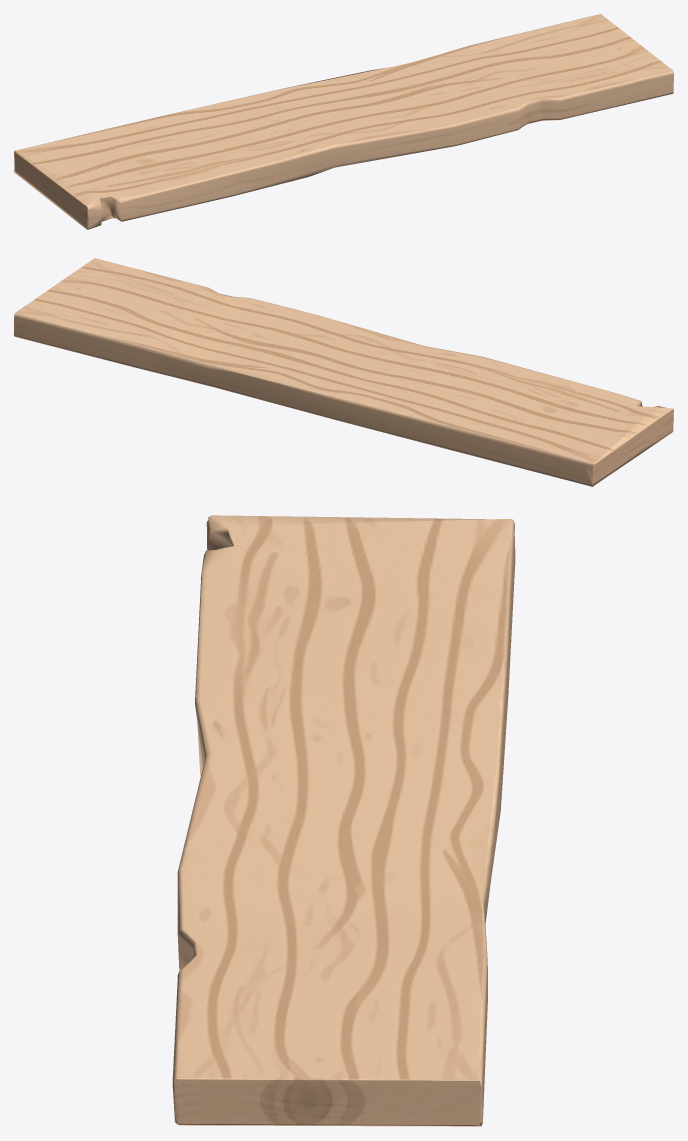
File: plank-worn.glb
3 renders of one model, top to bottom at view 1: azimuth 30°, elevation 25°; view 2: azimuth 150°, elevation 25°; view 3: azimuth 270°, elevation 25°, orthographic. The views are drawn at different scales.
Visible parts, largest first — view 1: Existing Meshy board axis alignment; view 2: Existing Meshy board axis alignment; view 3: Existing Meshy board axis alignment.
Boxes of the visible parts, x1,y1,x2,y2 form: Existing Meshy board axis alignment: (14,14,673,229); Existing Meshy board axis alignment: (14,258,673,486); Existing Meshy board axis alignment: (172,515,515,1126).
Bounding box in the file's own units: 1.01 × 0.0422 × 0.2569.
1 material, 1 textured.
